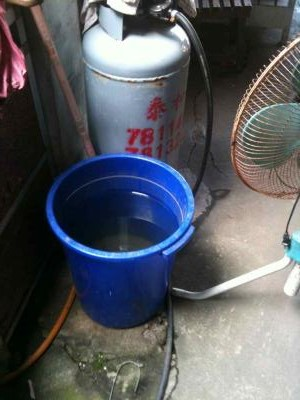bucket: (40, 153, 199, 333)
